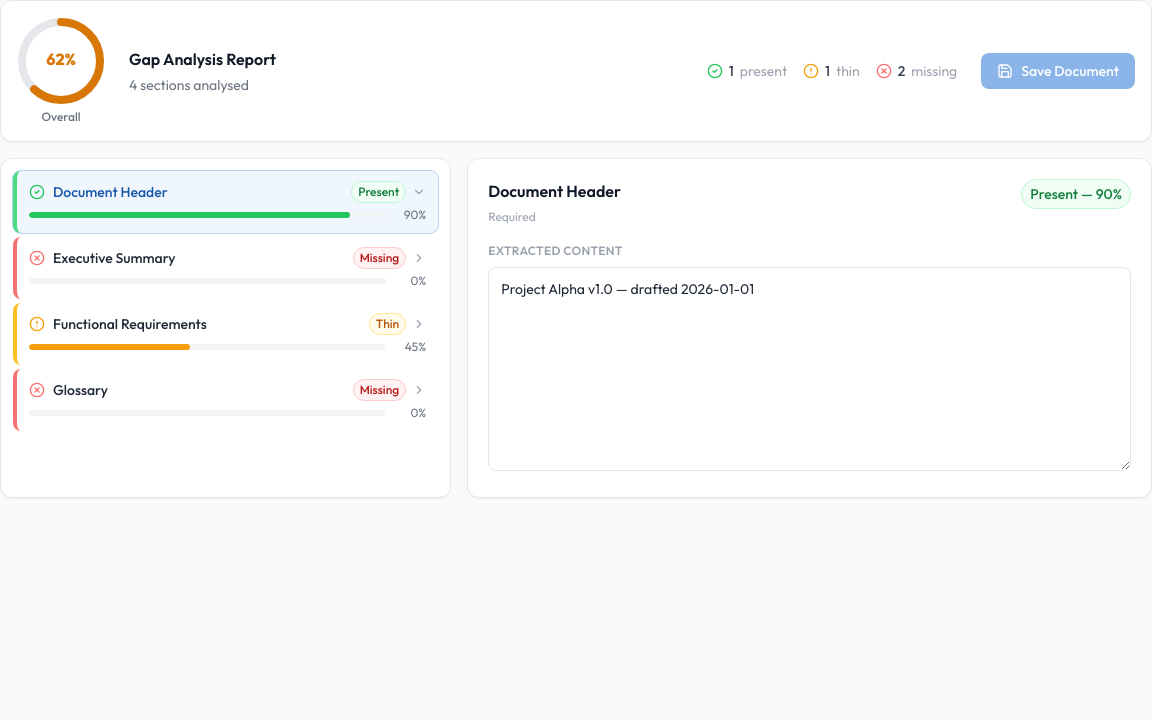
Test: GapAnalysisPanel — Save Document › Save Document button is enabled when both required sections are approved
The width and height of the screenshot is (1152, 720).
Click the text "Executive Summary" at (114, 258), box [53,248,176,268]
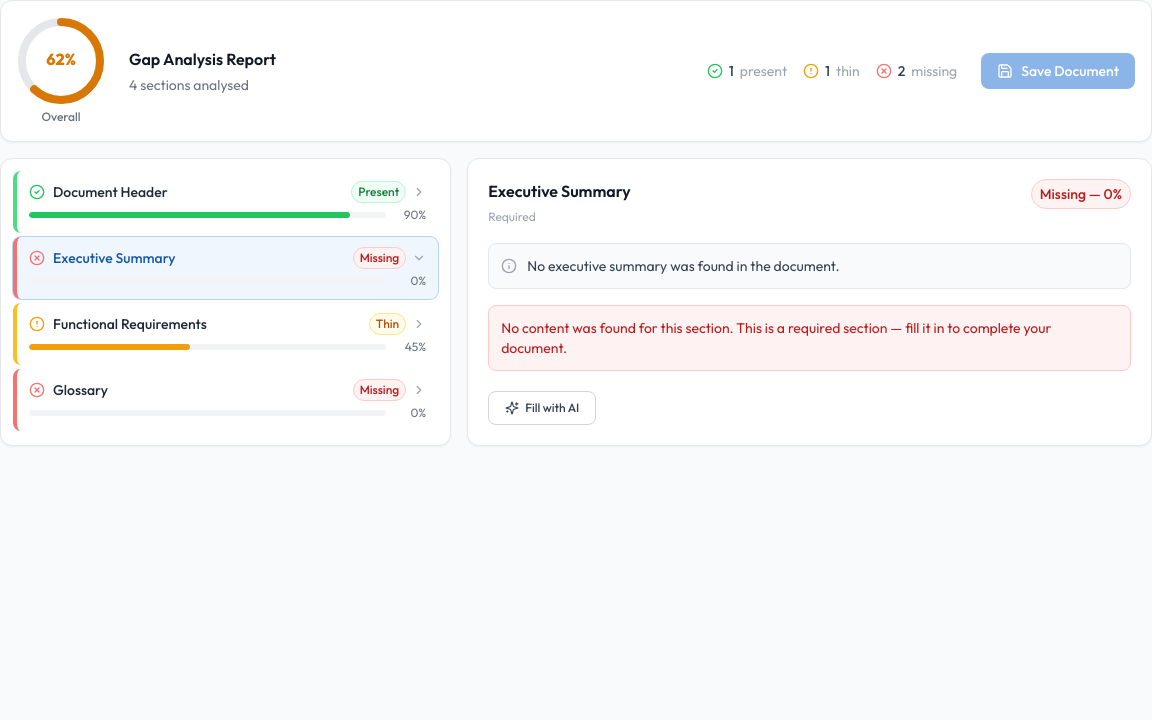
Click the button with aria-label "fill executive summary with ai" at (542, 408), box [488,391,596,425]
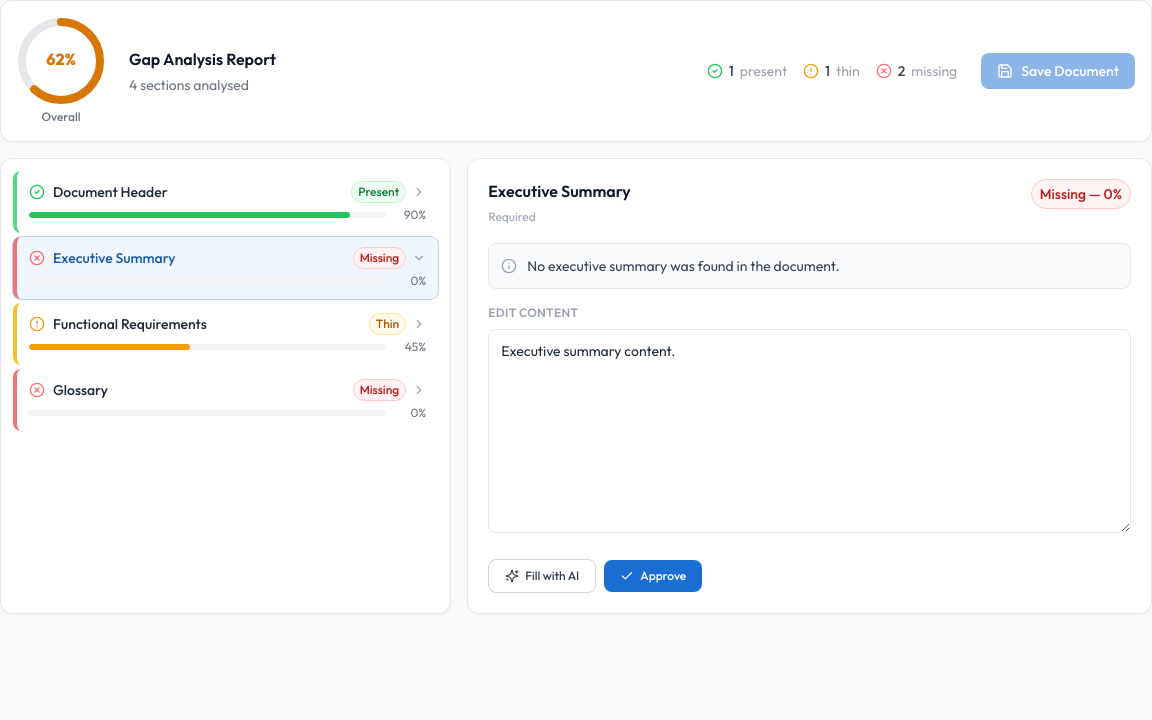
expect the text box showing "Executive summary content." is shown: met, box [488,329,1131,533]
Click the button with aria-label "approve executive summary" at (653, 576), box [604,560,702,592]
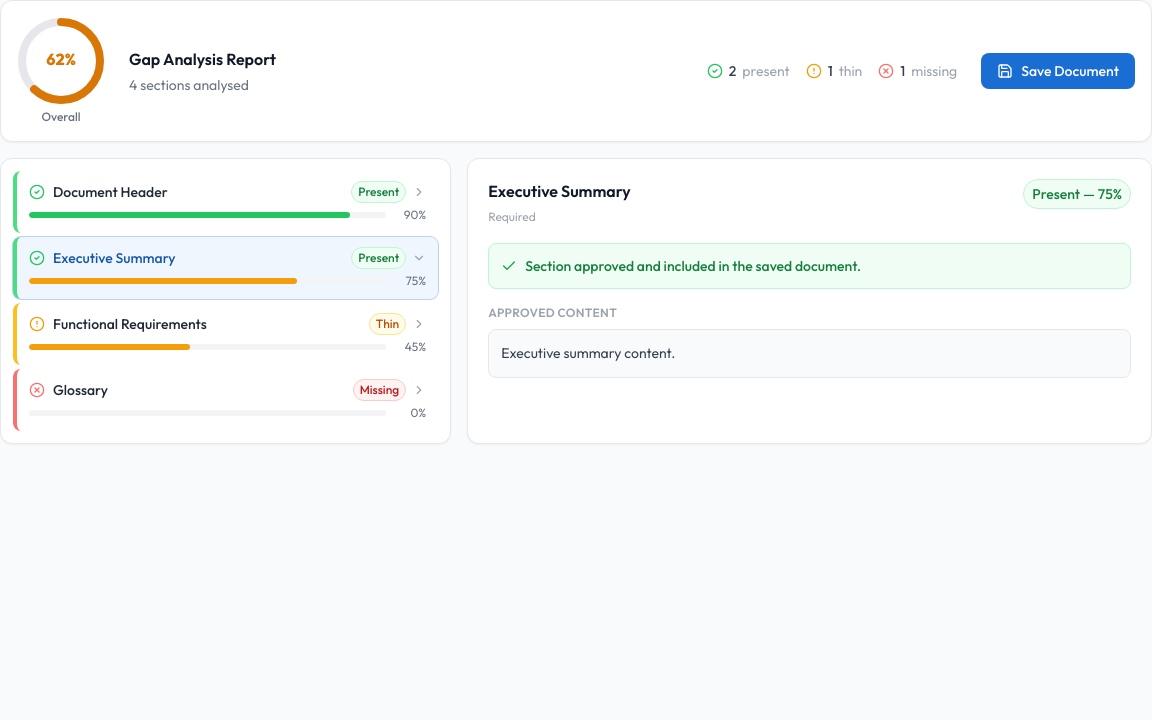
expect the button with aria-label "save complete document" is enabled: met, box [981,53,1135,89]
